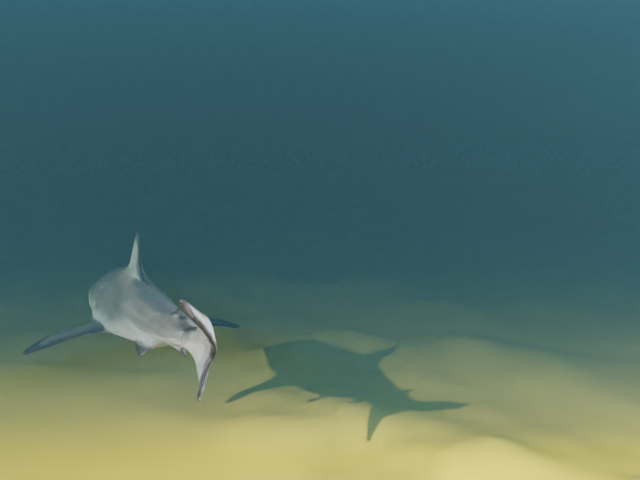Carribean Shark.001: (21, 232, 240, 401)
